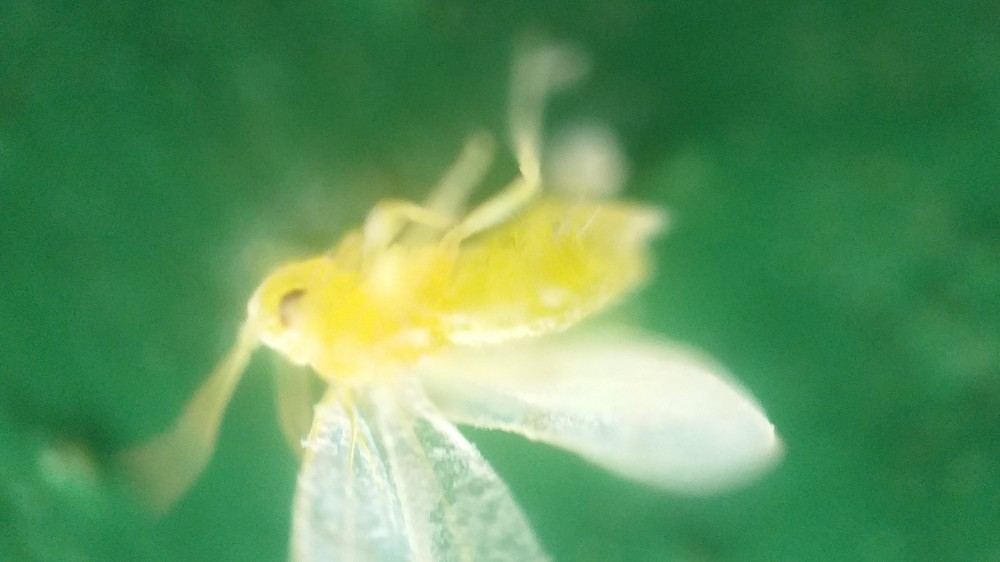Mosca Blanca: (138, 58, 798, 562)
